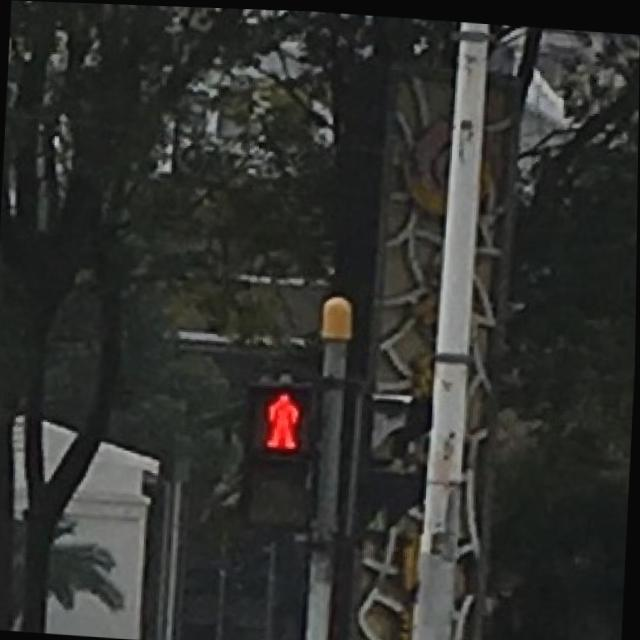red_light: (256, 380, 314, 452)
